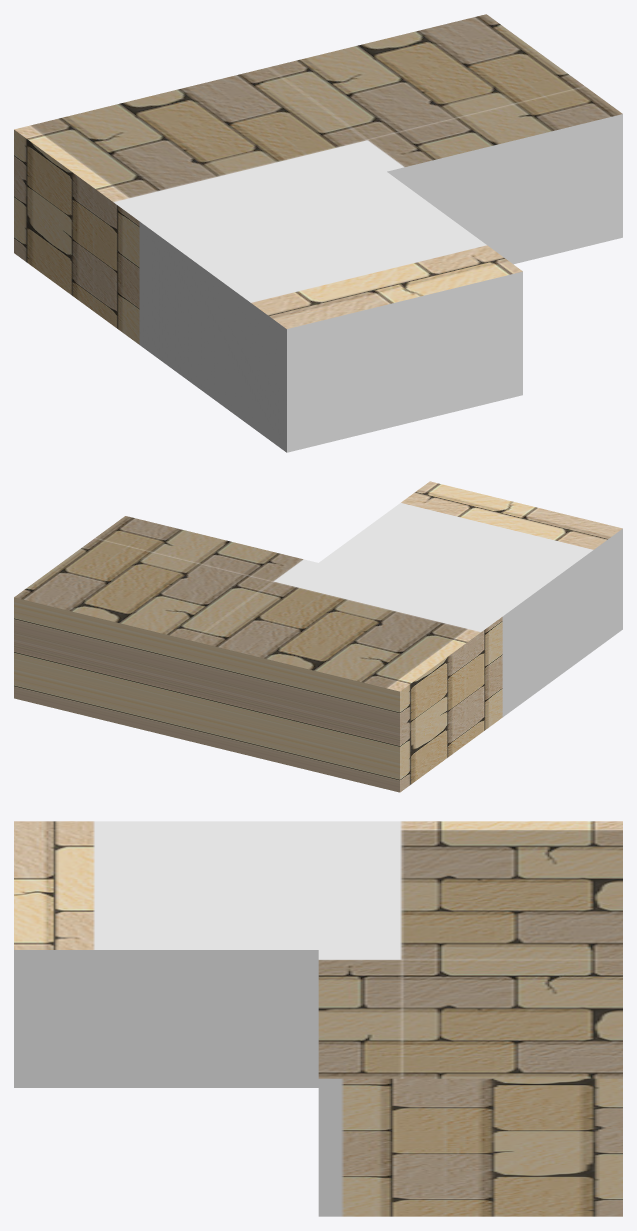
File: blockL_4.fbx
3 views of the same model, one above another, from view 1: azimuth 30°, elevation 25°; view 2: azimuth 150°, elevation 25°; view 3: azimuth 270°, elevation 25° (orthographic). The views are drawn at different scales.
Parts seen in each view (by area): view 1: pCube1; view 2: pCube1; view 3: pCube1.
Part boxes in pixels (bbox=[...]): pCube1: bbox=[14, 14, 622, 452]; pCube1: bbox=[14, 481, 622, 792]; pCube1: bbox=[14, 821, 622, 1216].
Size of the model in its own units: 200 by 50 by 200.
